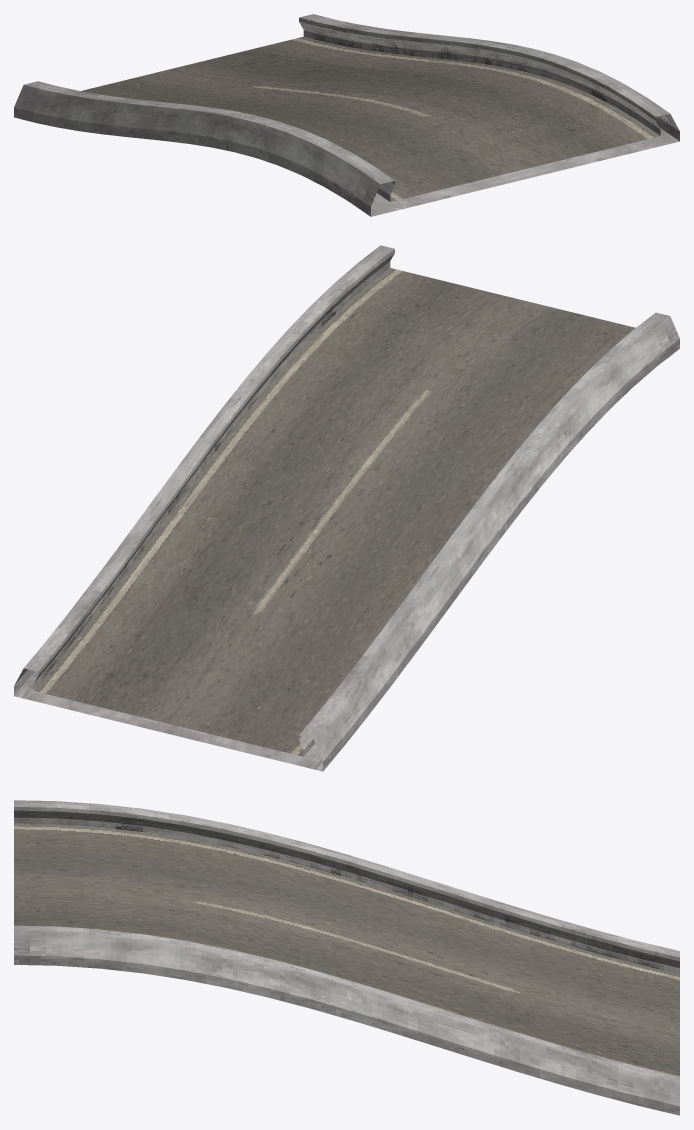
Rendered from straight2.glb.
3 renders of one model, top to bottom at view 1: azimuth 30°, elevation 25°; view 2: azimuth 150°, elevation 25°; view 3: azimuth 270°, elevation 25°, orthographic. The views are drawn at different scales.
Visible parts, largest first — view 1: road-Straight-Flat-BiSlopeDown-Down2-Center-Size2; view 2: road-Straight-Flat-BiSlopeDown-Down2-Center-Size2; view 3: road-Straight-Flat-BiSlopeDown-Down2-Center-Size2.
Boxes of the visible parts, bbox=[...] form: road-Straight-Flat-BiSlopeDown-Down2-Center-Size2: bbox=[14, 14, 679, 216]; road-Straight-Flat-BiSlopeDown-Down2-Center-Size2: bbox=[14, 245, 679, 771]; road-Straight-Flat-BiSlopeDown-Down2-Center-Size2: bbox=[14, 800, 679, 1115].
Bounding box in the file's own units: 1 × 0.5938 × 2.
Materials: 2 (2 with a texture image).
